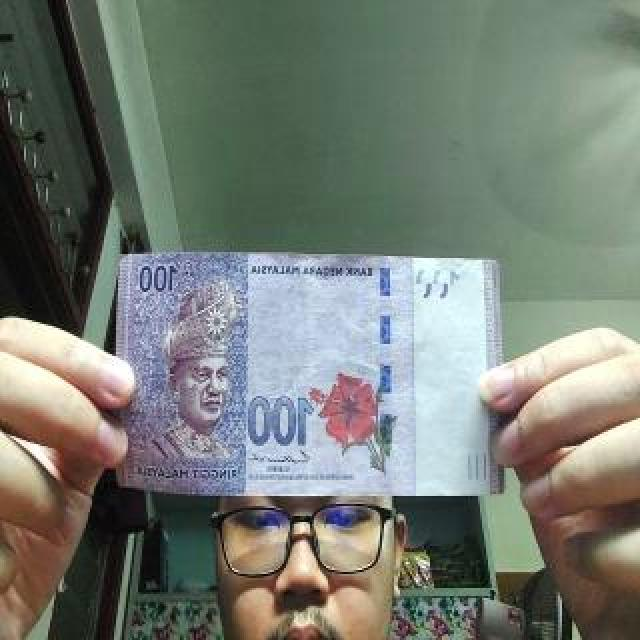100 Ringgit: (114, 248, 519, 498)
